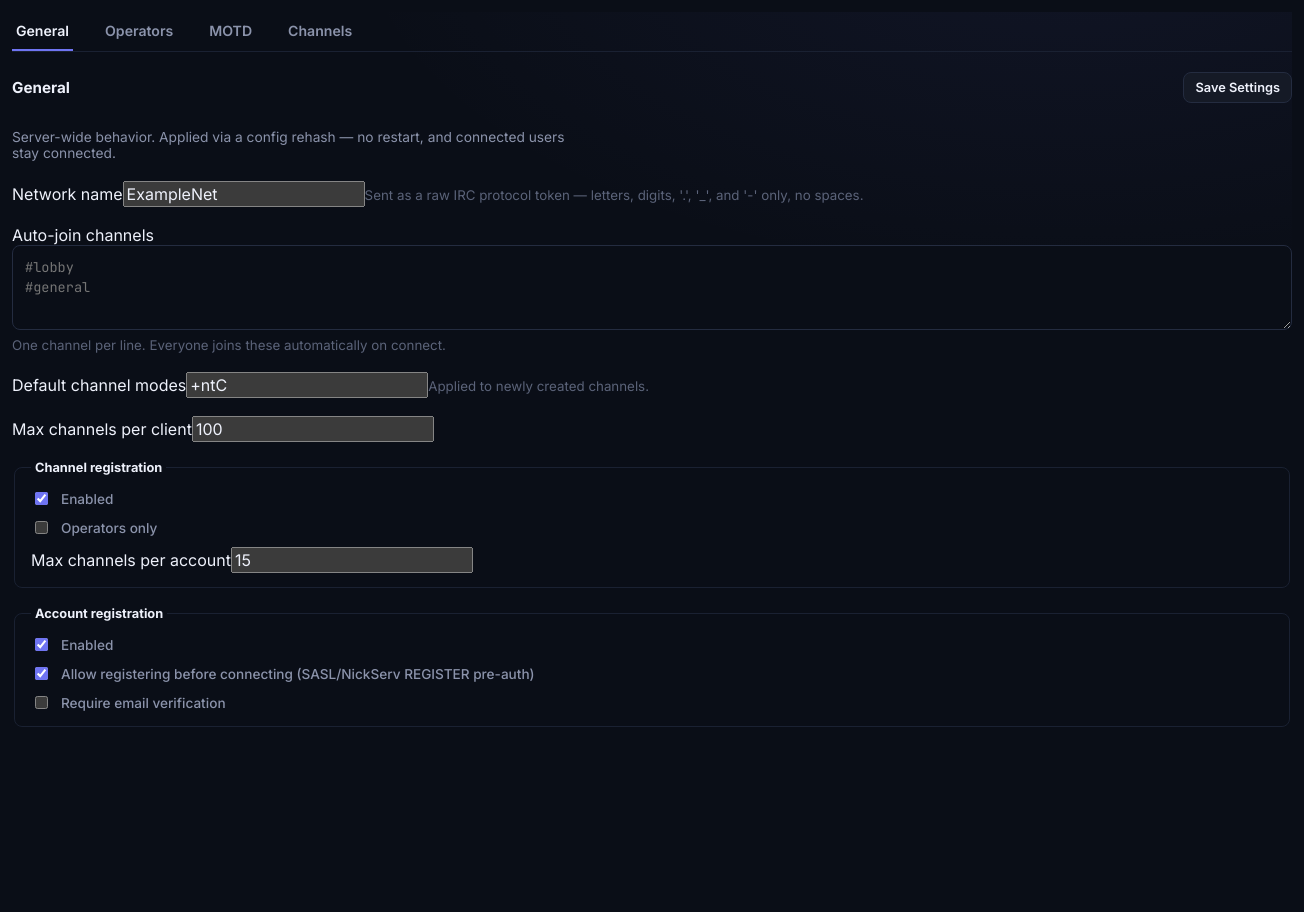
Test: IrcSettingsPanel › adding an operator posts the form and re-renders the returned list
Click the tab "Operators": [139, 32] box [101, 12, 177, 51]
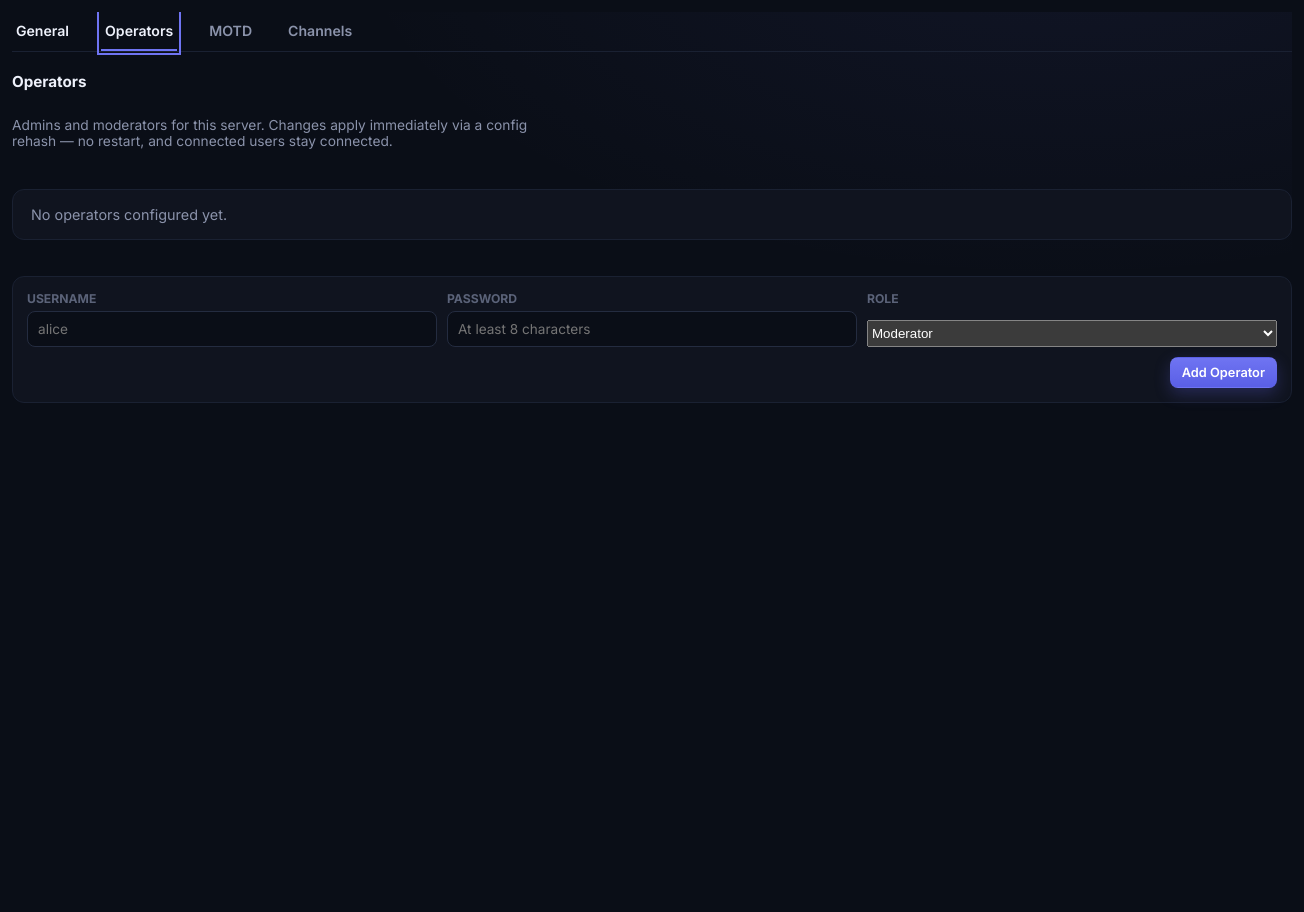
expect the text "No operators configured yet." is shown: met, box [12, 189, 1292, 240]
In the field with placeholder "alice": [232, 329] box [27, 311, 437, 347], type "dave"
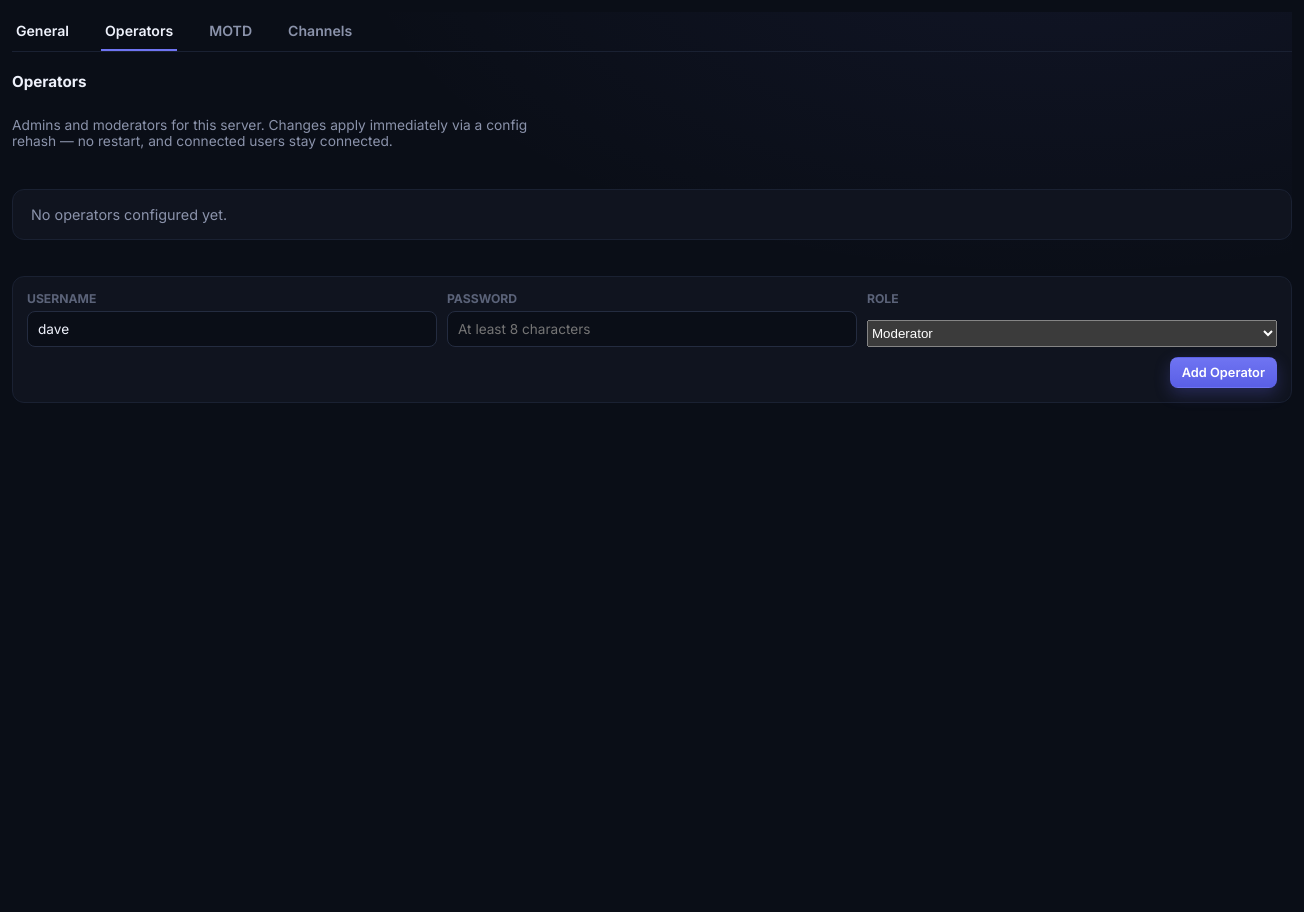
In the password field with placeholder "At least 8 characters": [652, 329] box [447, 311, 857, 347], type "supersecret123"
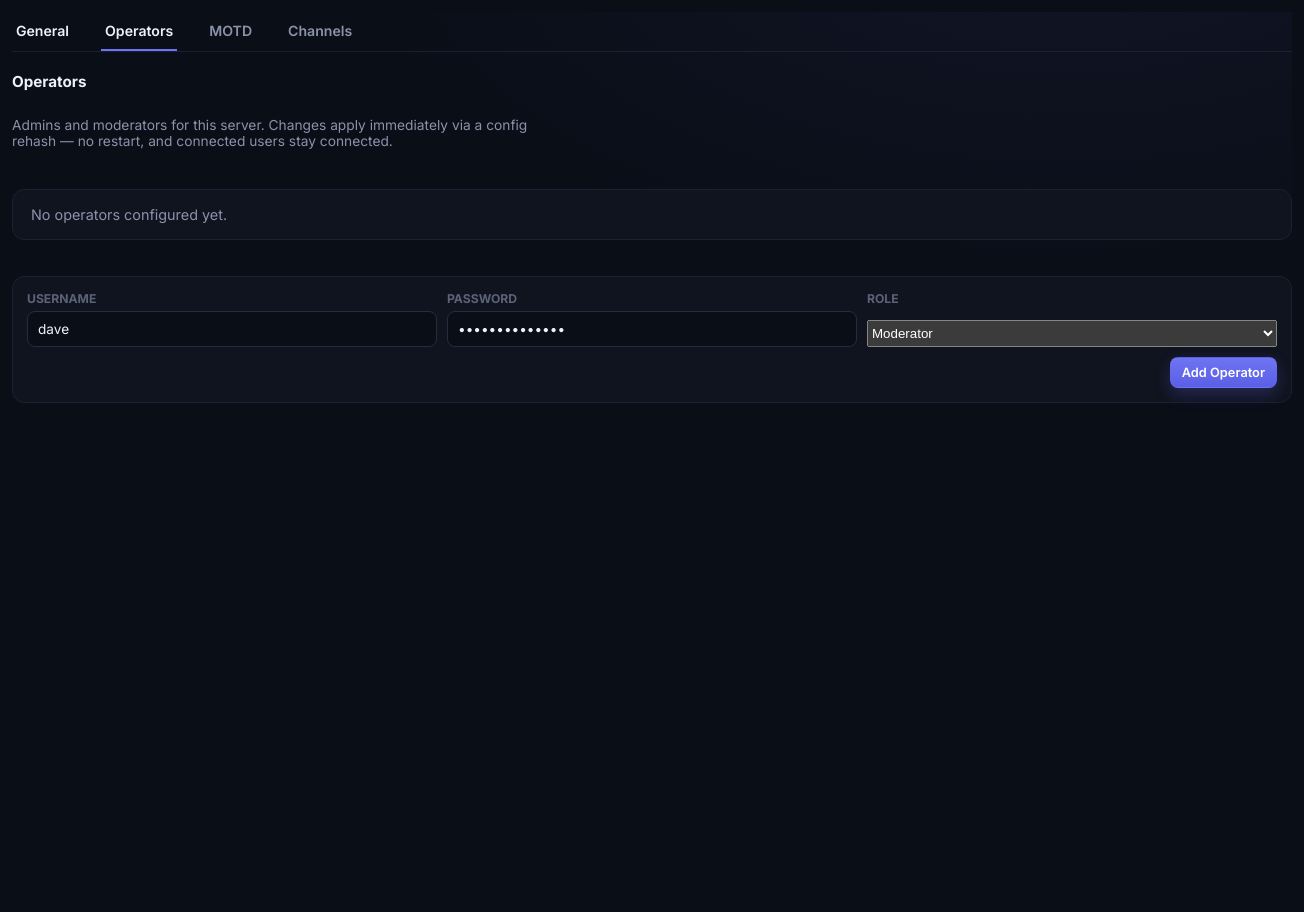
Click the button "Add Operator": [1223, 372] box [1170, 357, 1277, 388]
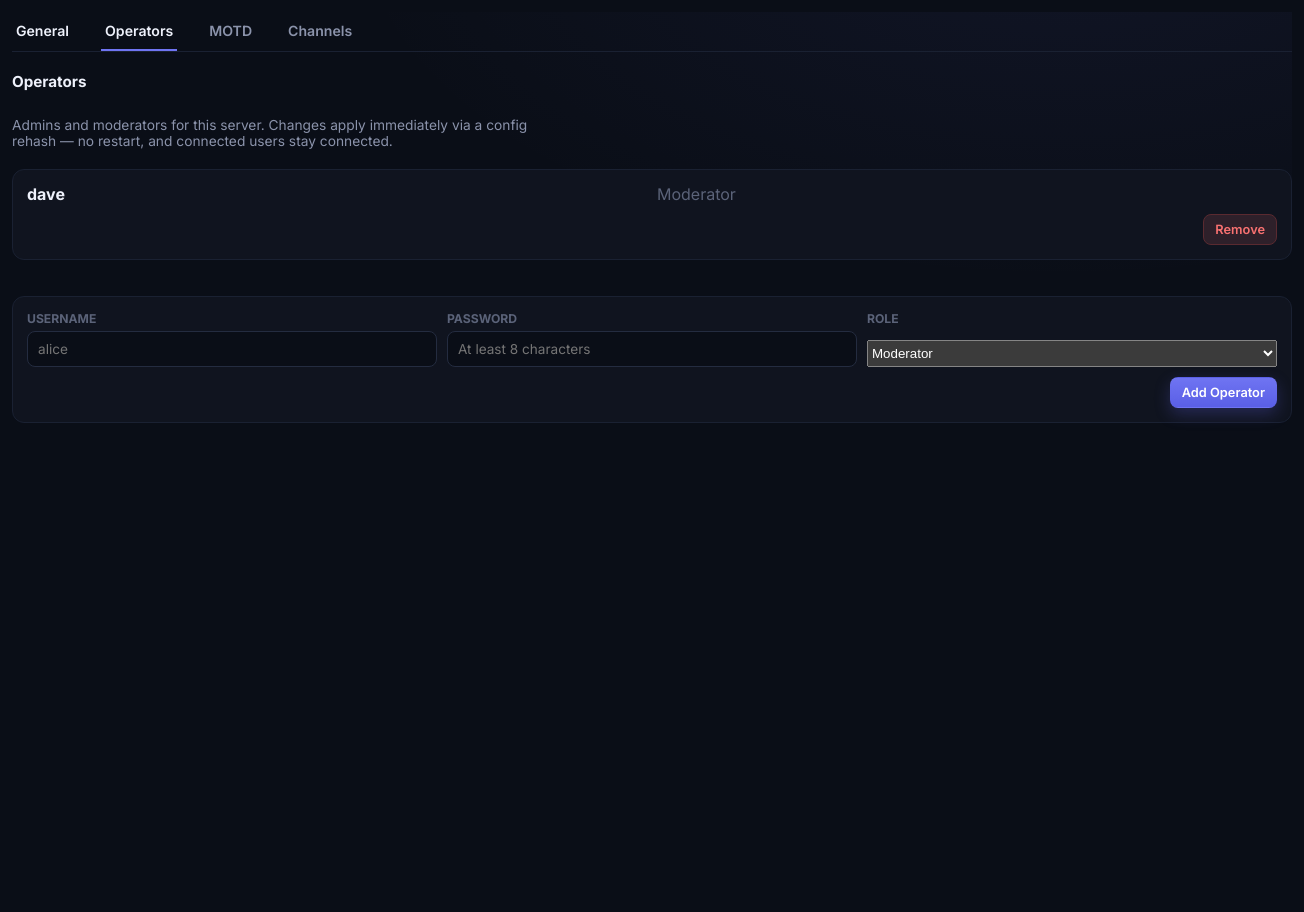
expect the text "dave" is shown: met, box [27, 184, 65, 204]
